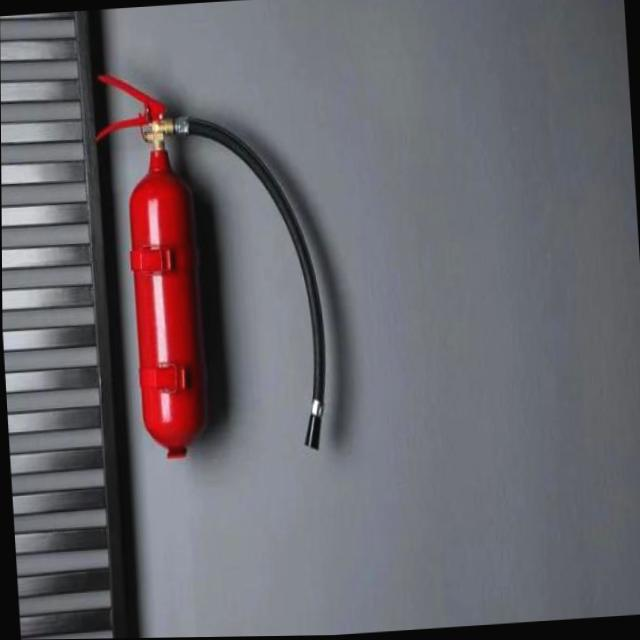FireExtinguisher: (84, 55, 334, 470)
